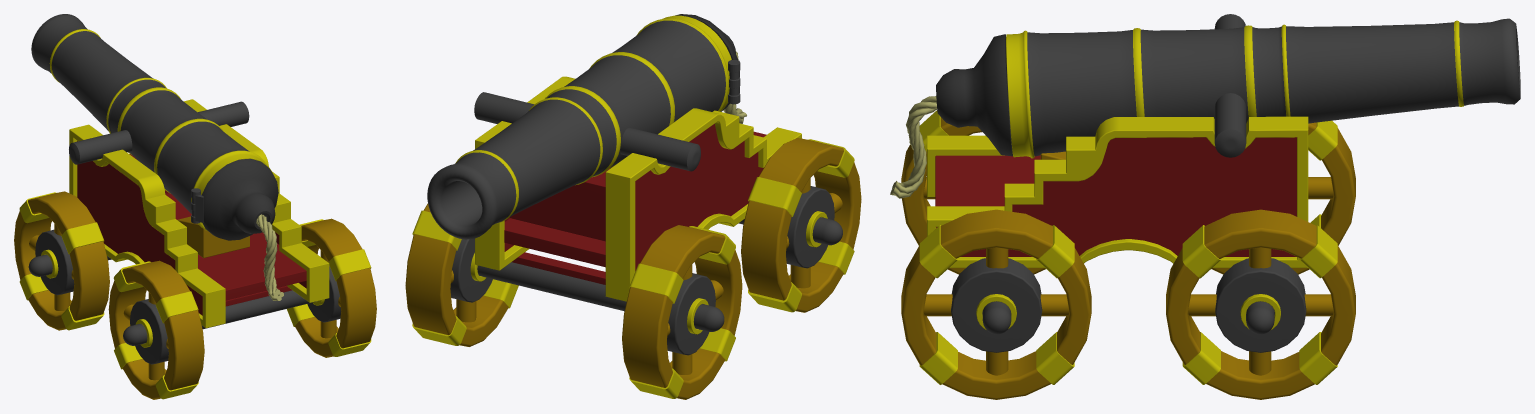
File: Cannon.fbx
The picture shows the model from 3 angles, left to right: view 1: azimuth 30°, elevation 25°; view 2: azimuth 150°, elevation 25°; view 3: azimuth 270°, elevation 25°; orthographic projection. The views are drawn at different scales.
Visible parts, largest first — view 1: polySurface51, polySurface44, polySurface88, polySurface110, polySurface52, polySurface109, polySurface48, polySurface49, polySurface46, polySurface115, polySurface108, polySurface86 (+16 smaller); view 2: polySurface51, polySurface44, polySurface88, polySurface110, polySurface52, polySurface87, polySurface50, polySurface46, polySurface93, polySurface49, polySurface108, polySurface86 (+19 smaller); view 3: polySurface51, polySurface52, polySurface44, polySurface109, polySurface87, polySurface85, polySurface107, polySurface48, polySurface49, polySurface88, polySurface46, polySurface110 (+16 smaller).
Part boxes in pixels (x1,y1,x2,y2): polySurface51: (31,14,273,230); polySurface44: (69,99,329,327); polySurface88: (14,191,109,330); polySurface110: (108,260,204,399); polySurface52: (77,141,306,315); polySurface109: (294,218,376,357); polySurface48: (202,158,278,240); polySurface49: (165,193,306,300); polySurface46: (69,101,249,164); polySurface115: (123,290,317,345); polySurface108: (130,299,168,364); polySurface86: (35,229,74,295); polySurface51: (427,15,731,239); polySurface44: (475,76,801,301); polySurface88: (622,225,742,399); polySurface110: (741,138,861,312); polySurface52: (504,124,763,270); polySurface87: (405,203,508,346); polySurface50: (510,177,605,241); polySurface46: (474,92,700,171); polySurface93: (477,262,724,331); polySurface49: (504,131,766,267); polySurface108: (786,186,834,268); polySurface86: (667,273,715,355); polySurface51: (1006,18,1520,158); polySurface52: (936,137,1296,256); polySurface44: (927,116,1308,267); polySurface109: (901,209,1091,399); polySurface87: (1166,209,1355,399); polySurface85: (1215,258,1306,352); polySurface107: (951,258,1042,352); polySurface48: (936,34,1012,156); polySurface49: (935,155,1040,206); polySurface88: (1211,122,1355,274); polySurface46: (1214,14,1246,157); polySurface110: (901,117,1045,274).
Bounding box in the file's own units: 24.26 × 21.73 × 40.09.
